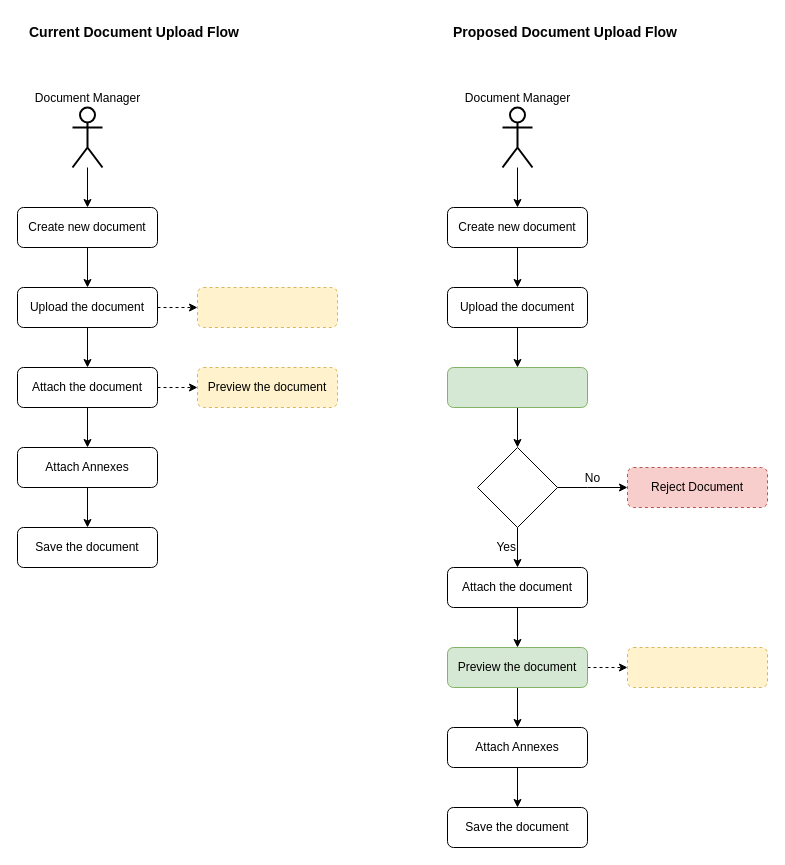
Some shapes in this 785 by 865 pixel diagram are drawn without their labels. Each missing label, with the centre of its shape:
"Automatic Validation" belongs at (x=517, y=387).
"Manual mapping to Common Structure" belongs at (x=697, y=667).
"Valid Structure" belongs at (x=517, y=487).
"Validate the document" belongs at (x=267, y=307).
